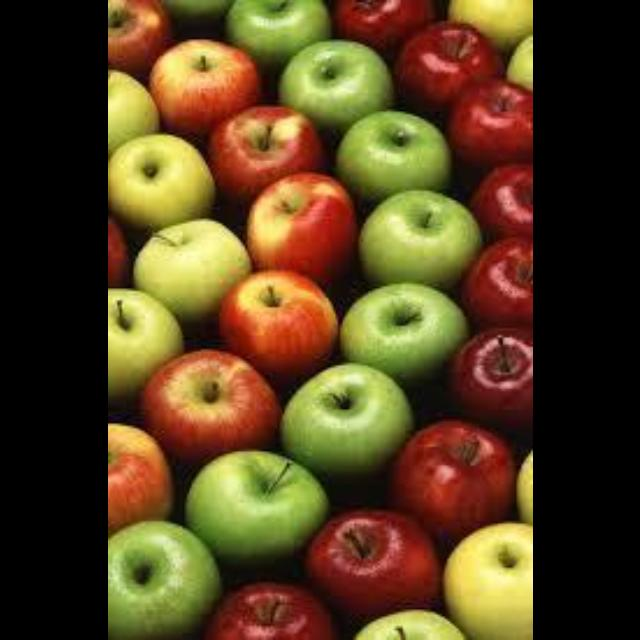apple: (184, 451, 326, 566), (140, 349, 279, 463), (389, 421, 514, 545), (279, 363, 412, 479), (305, 510, 440, 619), (219, 270, 335, 384), (107, 521, 219, 638), (340, 284, 468, 386), (244, 172, 356, 286), (358, 189, 479, 289), (133, 219, 249, 323), (207, 105, 323, 202), (279, 40, 391, 135), (335, 109, 449, 202), (149, 40, 258, 137), (442, 521, 531, 638), (107, 133, 212, 230), (393, 21, 500, 114), (449, 328, 531, 435), (107, 289, 181, 405), (447, 79, 531, 170), (226, 0, 328, 70), (205, 584, 335, 638), (107, 424, 170, 535), (461, 237, 531, 328), (333, 0, 433, 51), (107, 0, 170, 77), (470, 163, 531, 240), (447, 0, 531, 51), (107, 70, 156, 156), (354, 610, 463, 638), (505, 33, 531, 88), (107, 219, 126, 286), (163, 0, 230, 19), (517, 451, 531, 524)
